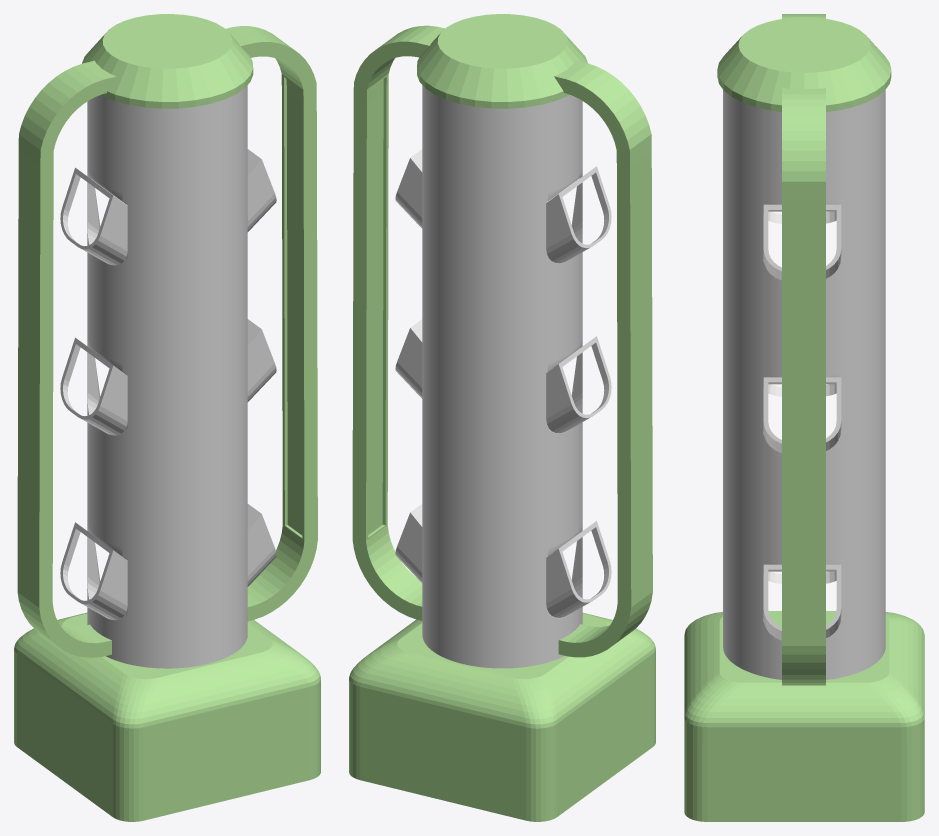
File: hidroponik.glb
The picture shows the model from 3 angles, left to right: view 1: azimuth 30°, elevation 25°; view 2: azimuth 150°, elevation 25°; view 3: azimuth 270°, elevation 25°; orthographic projection.
Parts seen in each view (by area): view 1: Cylinder.007, Cube.007, Cube.003, Cylinder.003; view 2: Cylinder.007, Cube.007, Cube.003, Cylinder.003; view 3: Cylinder.007, Cube.003, Cube.007, Cylinder.003.
Part boxes in pixels (bbox=[...]): Cylinder.007: bbox=[60, 85, 276, 668]; Cube.007: bbox=[17, 26, 317, 657]; Cube.003: bbox=[14, 612, 320, 821]; Cylinder.003: bbox=[82, 14, 253, 108]; Cylinder.007: bbox=[395, 85, 611, 668]; Cube.007: bbox=[352, 25, 652, 657]; Cube.003: bbox=[349, 612, 655, 821]; Cylinder.003: bbox=[417, 14, 587, 108]; Cylinder.007: bbox=[723, 90, 885, 679]; Cube.003: bbox=[684, 611, 924, 821]; Cube.007: bbox=[782, 14, 825, 685]; Cylinder.003: bbox=[717, 17, 891, 111].
Bounding box in the file's own units: 1.95 × 4.79 × 1.44.
